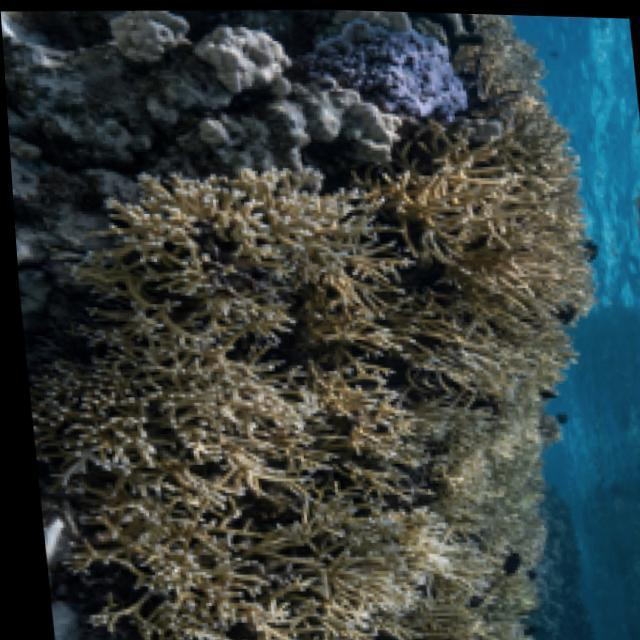Dead Coral: (53, 399, 444, 640), (52, 142, 391, 392)
